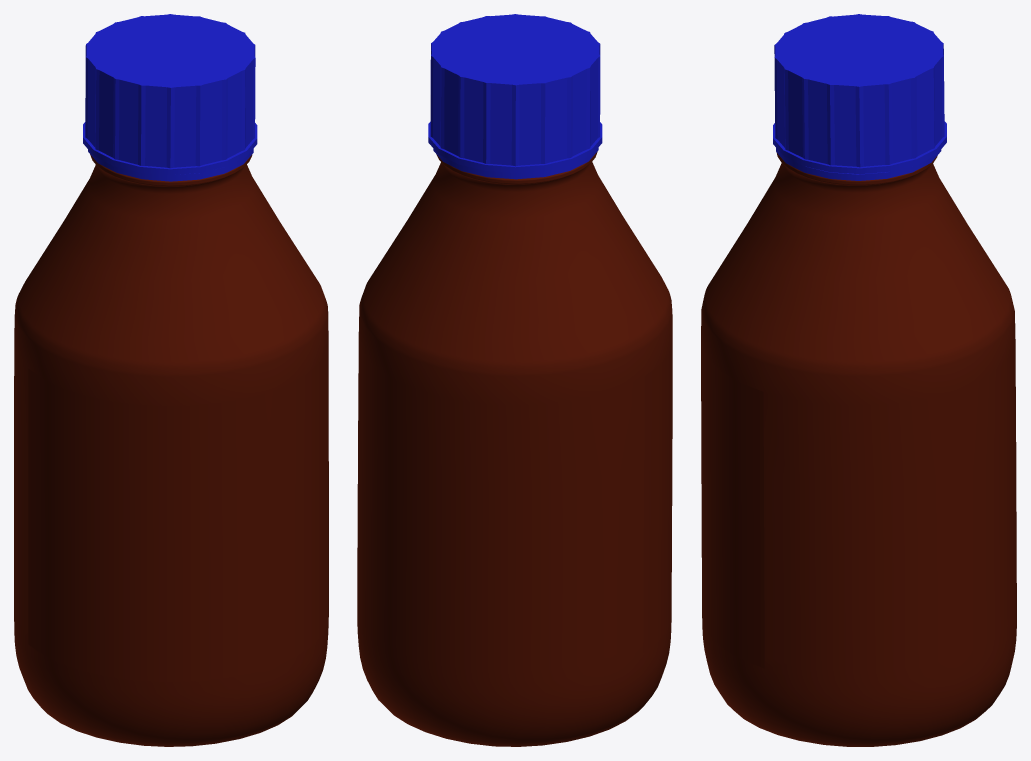
File: 丙酮试剂瓶.fbx
The picture shows the model from 3 angles, left to right: view 1: azimuth 30°, elevation 25°; view 2: azimuth 150°, elevation 25°; view 3: azimuth 270°, elevation 25°; orthographic projection.
Visible parts, largest first — view 1: 对象001, Plane018, Cylinder050, Cylinder051; view 2: Plane018, Cylinder050, 对象001, Cylinder051; view 3: Plane018, Cylinder050, 对象001, Cylinder051.
Boxes of the visible parts, x1,y1,x2,y2 form: 对象001: [28, 349, 327, 682]; Plane018: [14, 154, 328, 746]; Cylinder050: [83, 14, 257, 175]; Cylinder051: [88, 149, 253, 181]; Plane018: [357, 151, 672, 746]; Cylinder050: [428, 14, 602, 172]; 对象001: [643, 342, 672, 652]; Cylinder051: [433, 147, 598, 179]; Plane018: [701, 153, 1016, 746]; Cylinder050: [773, 14, 946, 174]; 对象001: [701, 339, 764, 668]; Cylinder051: [776, 148, 941, 180].
Size of the model in its own units: 19512 by 44032 by 19614.
